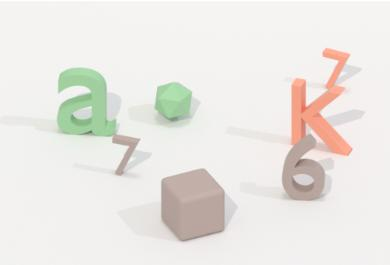0-KhoiVuong: (156, 163, 232, 245)
0-TronCanh: (151, 76, 195, 123)
6: (280, 132, 327, 203)
7: (110, 129, 144, 180), (319, 44, 350, 92)
K: (288, 75, 355, 158)
a: (52, 65, 119, 139)
